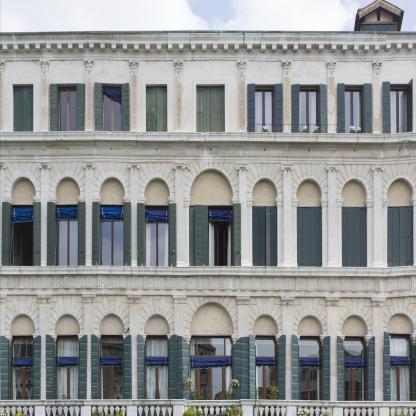Balcony: (0, 399, 416, 416)
Blind: (387, 206, 414, 267), (252, 206, 278, 267), (342, 206, 367, 267), (297, 206, 322, 267), (174, 335, 192, 416), (232, 336, 250, 416), (196, 84, 225, 132), (13, 84, 34, 132), (146, 84, 167, 132), (0, 335, 12, 416), (320, 336, 331, 416), (46, 334, 56, 416), (276, 334, 286, 416), (195, 204, 208, 266), (365, 336, 375, 416), (91, 334, 100, 416), (291, 334, 300, 416), (168, 334, 177, 415), (78, 335, 87, 416), (123, 335, 132, 416), (32, 336, 41, 416), (1, 201, 12, 266), (383, 331, 391, 416), (137, 334, 145, 416), (47, 201, 57, 266), (337, 335, 345, 416), (232, 203, 242, 266), (168, 203, 177, 267), (77, 202, 86, 266), (249, 334, 256, 416), (137, 202, 145, 266), (123, 202, 131, 266), (92, 202, 100, 266), (33, 202, 41, 266), (49, 84, 59, 132), (120, 84, 130, 132), (382, 81, 391, 133), (337, 83, 346, 133), (247, 83, 256, 132), (318, 84, 327, 133), (363, 84, 372, 133), (76, 83, 85, 131), (94, 83, 103, 131), (274, 84, 283, 132), (291, 84, 300, 132), (411, 344, 416, 416), (408, 78, 413, 132)
Building Outline: (0, 0, 416, 416)
Door: (197, 358, 225, 416)
Facade: (1, 44, 416, 416)
Floor: (1, 150, 416, 283)
Floor Slab: (1, 141, 416, 149), (1, 275, 416, 283)
Ground Floor: (1, 283, 416, 416)
Molding: (0, 274, 416, 295), (0, 43, 416, 53)
Pillar: (370, 297, 387, 416), (81, 294, 97, 416), (235, 295, 251, 416), (280, 295, 296, 416), (325, 296, 341, 416), (37, 294, 52, 416), (127, 294, 142, 416), (172, 294, 187, 416), (172, 162, 186, 267), (38, 162, 52, 266), (127, 162, 141, 266), (371, 164, 385, 267), (83, 161, 96, 266), (326, 163, 339, 267), (281, 163, 294, 267), (236, 163, 249, 266), (371, 60, 384, 133), (326, 59, 338, 133), (281, 59, 293, 132), (0, 294, 7, 416), (40, 58, 50, 131), (84, 58, 94, 131), (129, 58, 139, 131), (174, 59, 184, 132), (237, 59, 247, 132), (0, 162, 7, 266)
Top Floor: (1, 44, 416, 150)
Window: (190, 206, 234, 267), (189, 168, 234, 205), (387, 206, 414, 267), (10, 205, 36, 266), (252, 206, 278, 267), (144, 206, 170, 267), (54, 205, 80, 266), (297, 206, 322, 267), (342, 206, 367, 267), (99, 205, 124, 266), (189, 301, 234, 334), (388, 357, 412, 416), (196, 84, 225, 132), (145, 358, 169, 416), (253, 358, 277, 416), (299, 358, 323, 416), (344, 358, 368, 416), (56, 358, 79, 416), (100, 358, 123, 416), (12, 358, 33, 416), (253, 84, 276, 132), (389, 84, 411, 133), (298, 85, 320, 133), (343, 85, 365, 133), (146, 84, 167, 132), (13, 84, 34, 132), (56, 84, 77, 132), (190, 334, 233, 357), (101, 84, 122, 131), (387, 178, 414, 206), (9, 177, 36, 205), (341, 178, 368, 206), (98, 177, 125, 204), (296, 178, 323, 205), (54, 177, 80, 205), (144, 177, 170, 205), (252, 178, 278, 205), (387, 313, 414, 334), (98, 313, 125, 334), (54, 313, 80, 334), (144, 313, 170, 334), (252, 313, 278, 334), (297, 314, 323, 335), (342, 314, 368, 335), (388, 335, 412, 357), (145, 336, 169, 358), (253, 336, 277, 358), (299, 336, 323, 358), (344, 336, 368, 358), (10, 313, 35, 334), (56, 336, 79, 358), (100, 336, 123, 358), (12, 336, 34, 358), (226, 358, 232, 416), (190, 358, 196, 416)
